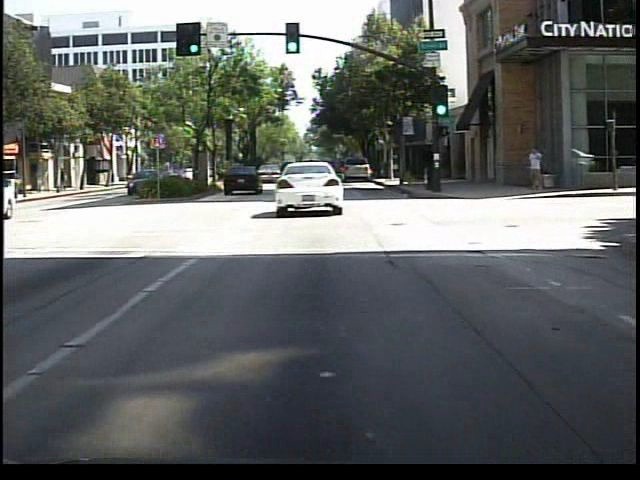person: (525, 143, 549, 195), (56, 162, 72, 196)
